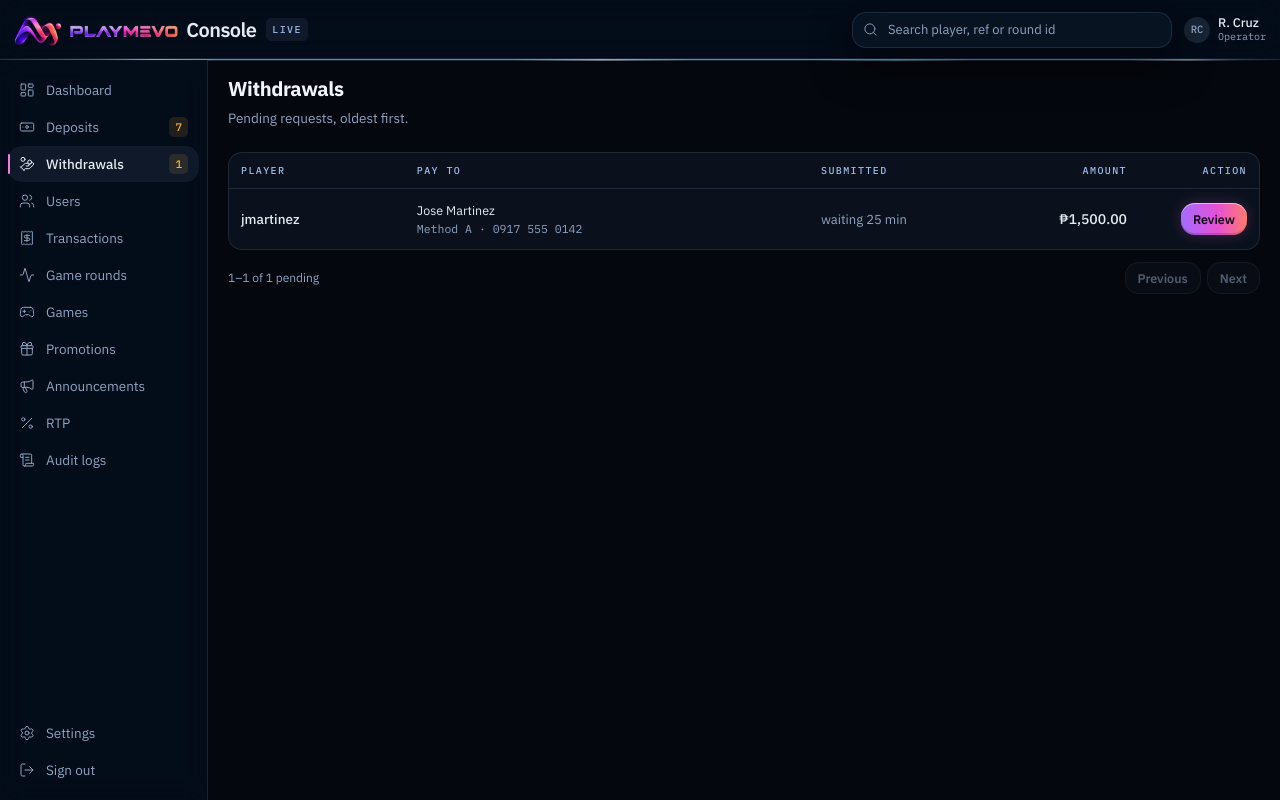
Scenario: the withdrawal queue › requires a payout reference to mark a request paid and then clears it from the queue
Expected: the text "Jose Martinez" is shown, [417,202,495,218]
Click the button "Review": (1214, 219) [1181,203,1247,235]
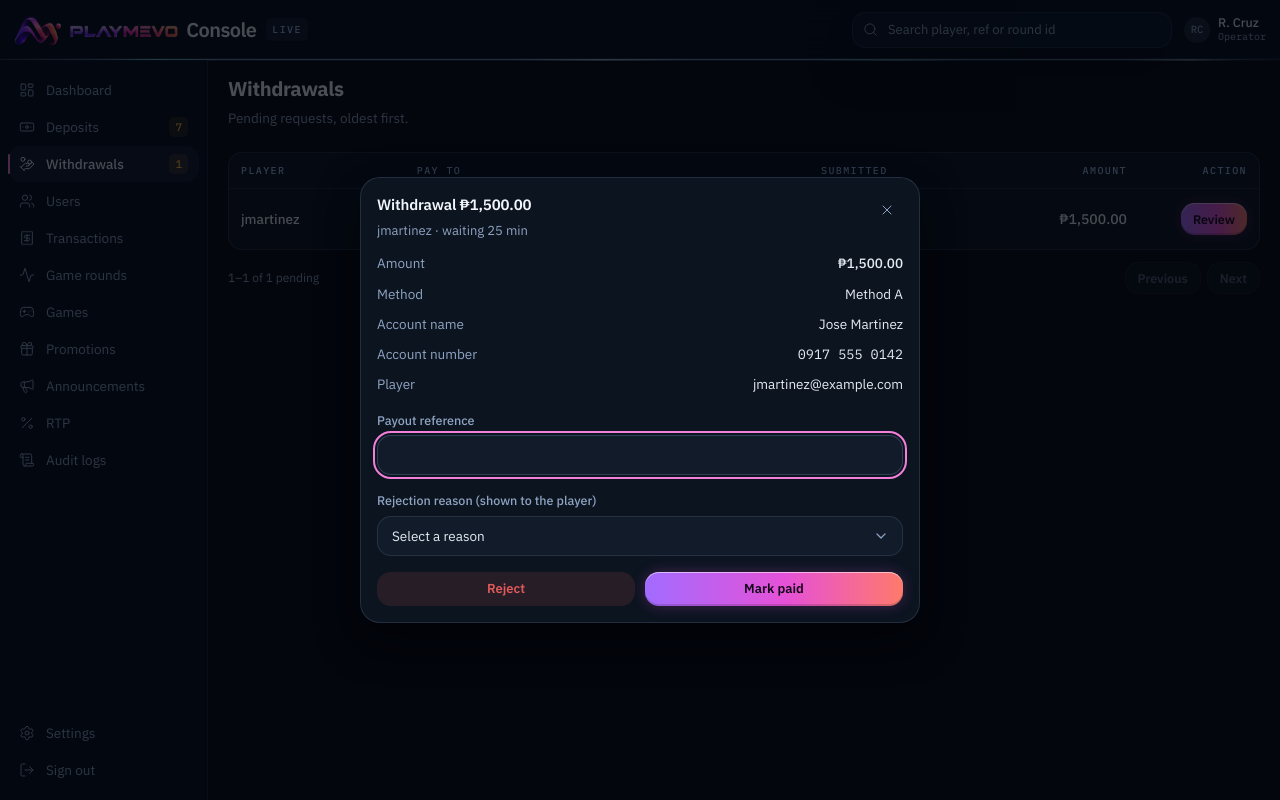
Expected: the text "0917 555 0142" is shown, [798,345,903,363]
Click the button "Mark paid": (774, 589) [645,572,903,606]
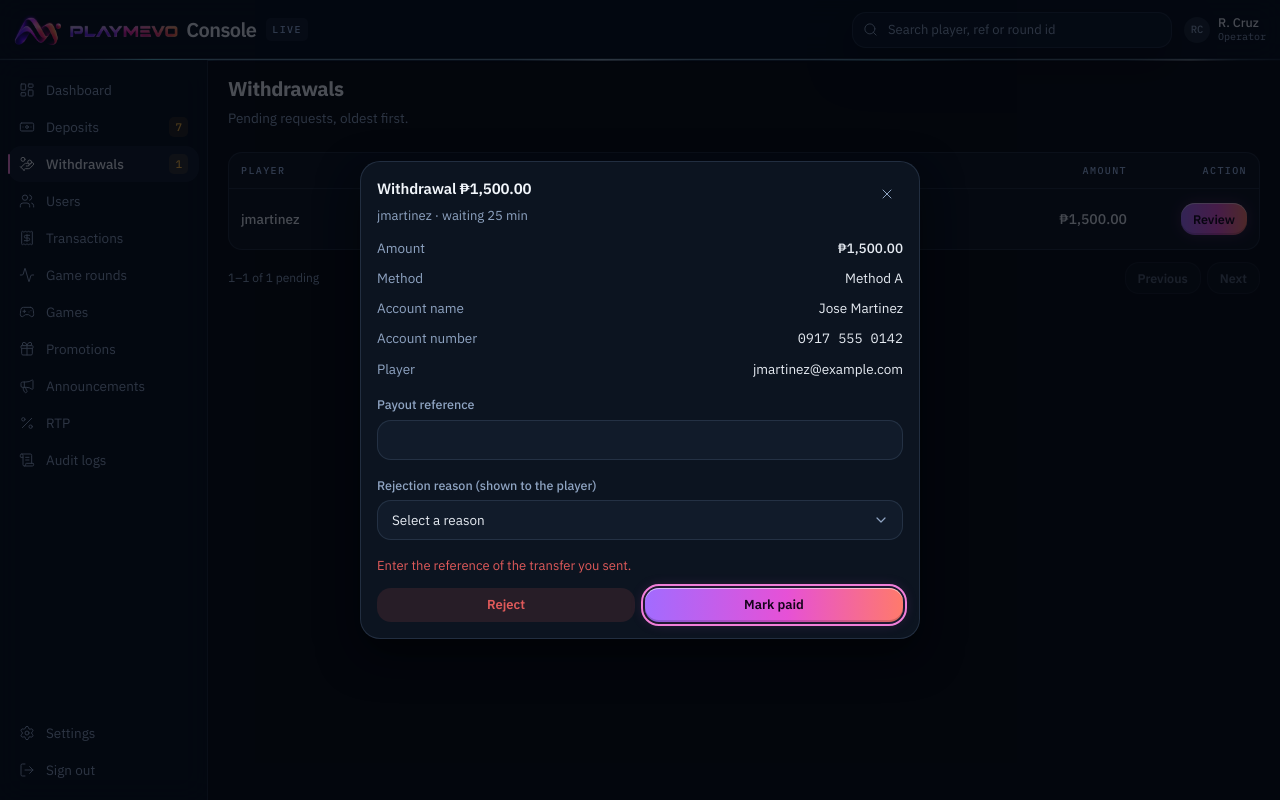
Expected: the message reads "Enter the reference of the transfer you sent.", [377,557,631,574]
In the field labelled "Payout reference": (640, 440) [377,420,903,460], type "GC-778812"
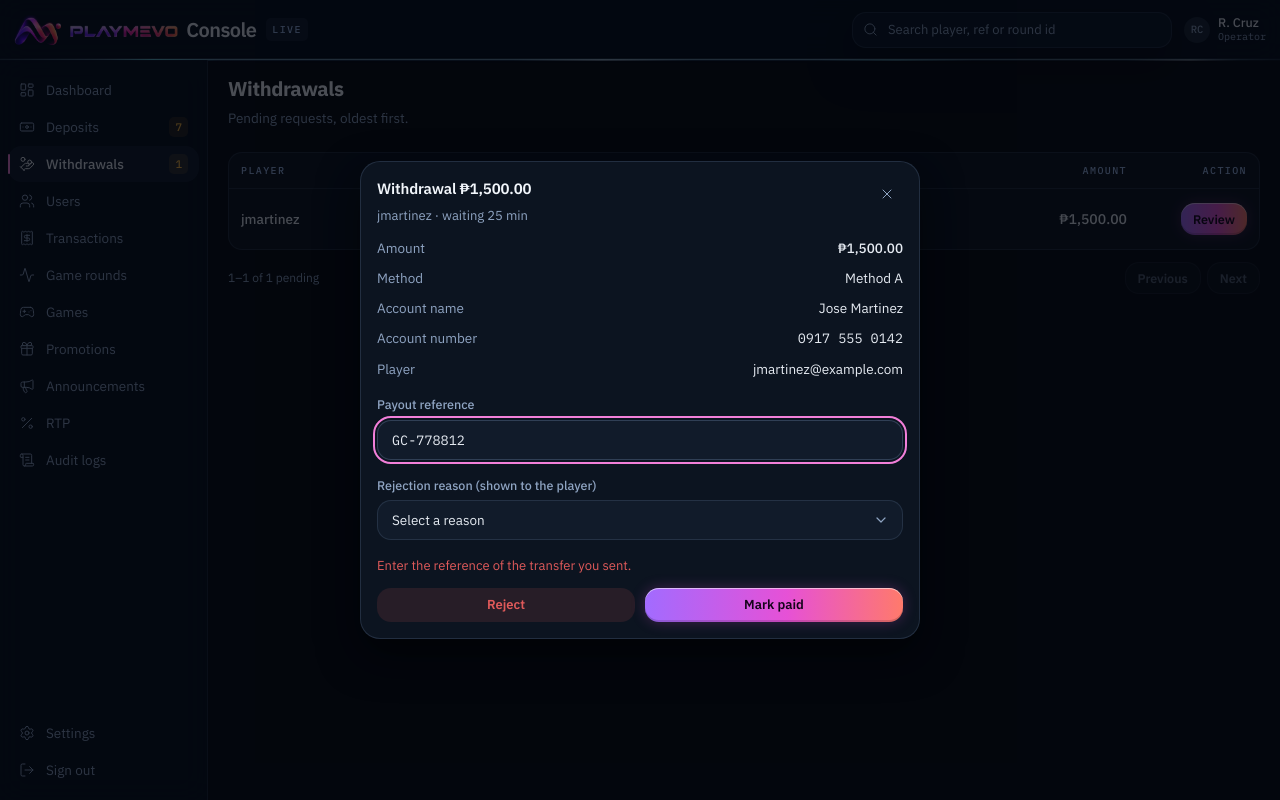
Click the button "Mark paid": (774, 605) [645,588,903,622]
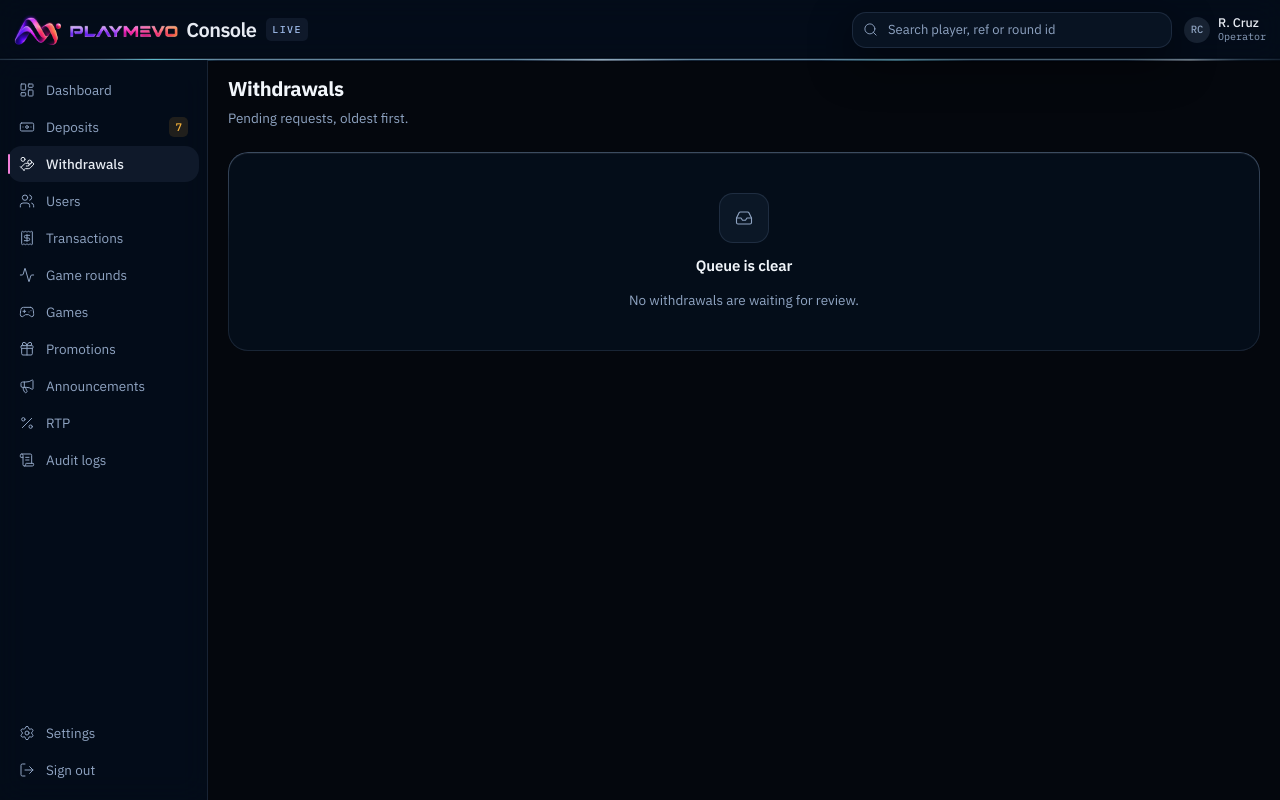
Expected: the text "Queue is clear" is shown, [696,255,792,278]
Expected: the dialog is gone
